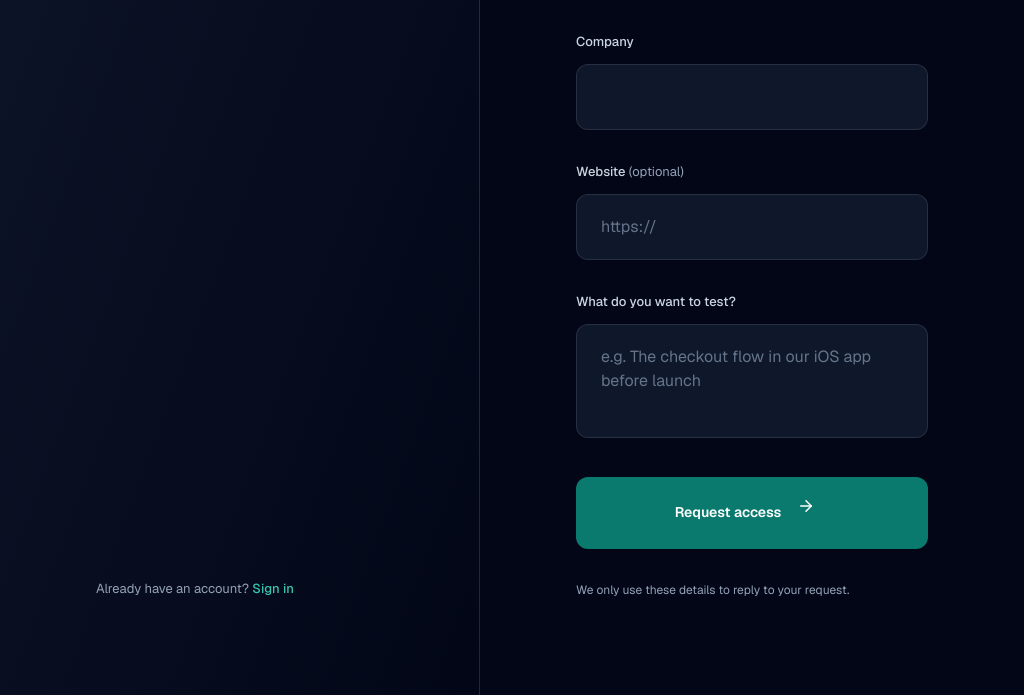
it: RequestAccess page › shows field errors and does not submit when the form is invalid
The width and height of the screenshot is (1024, 695).
(page scrolled)
Click the button "Request access".
click(752, 513)  # box [576, 477, 928, 549]
(page scrolled)
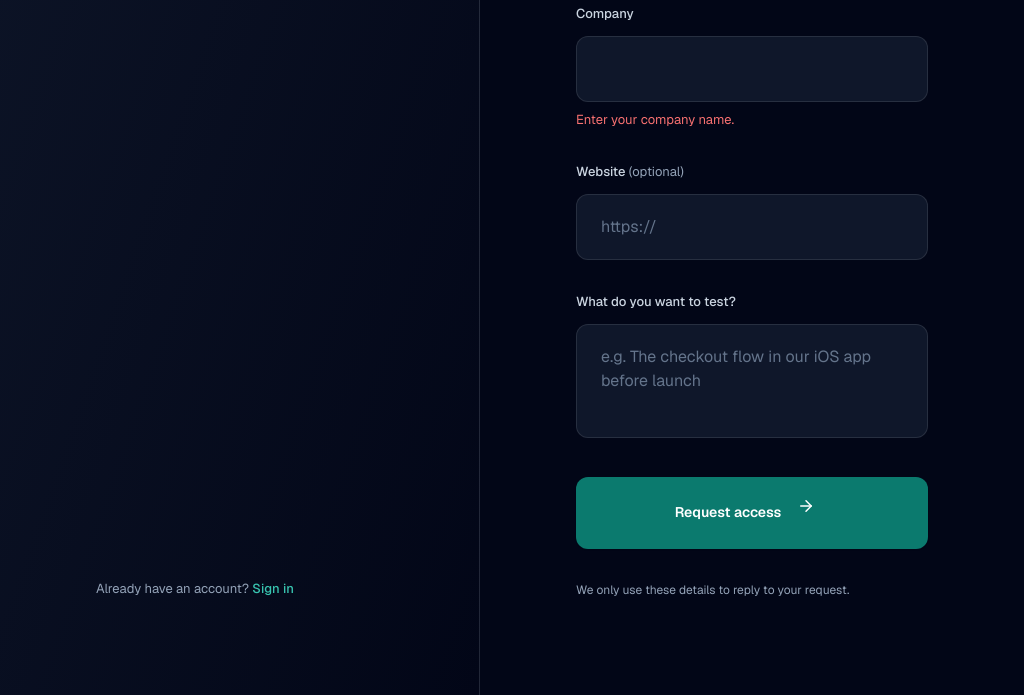
Check: the text "Enter your company name." is shown, box [576, 111, 734, 128]
